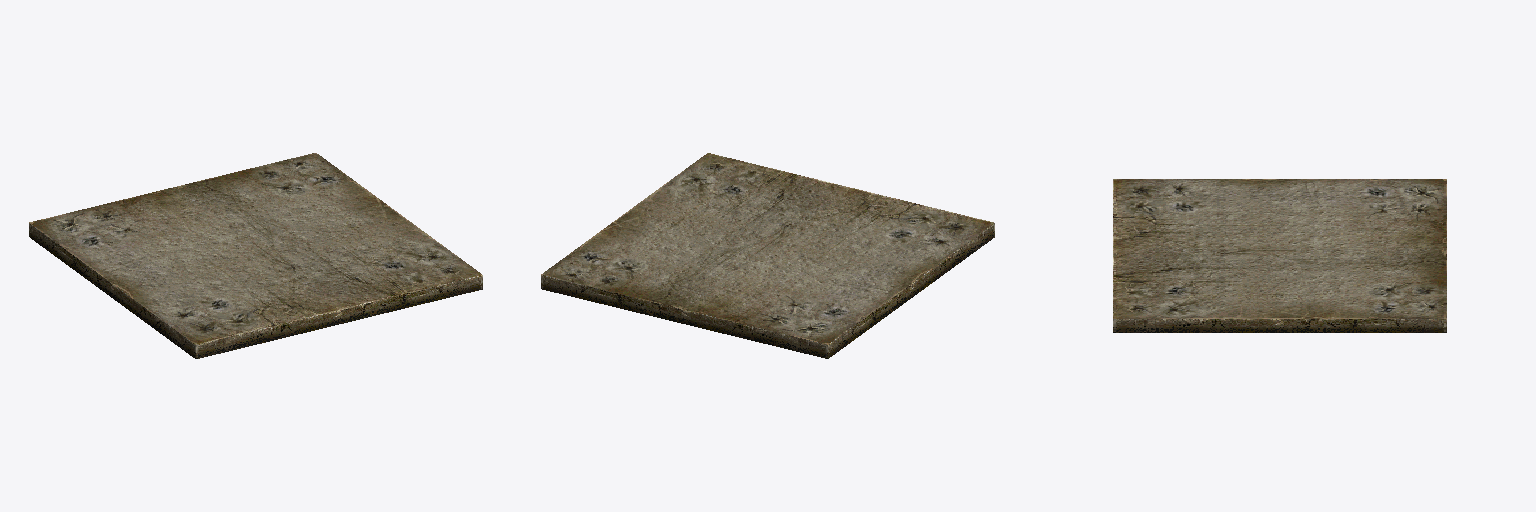
3 views of the same model, side by side, from view 1: azimuth 30°, elevation 25°; view 2: azimuth 150°, elevation 25°; view 3: azimuth 270°, elevation 25° (orthographic).
Visible parts, largest first — view 1: Swatertwrconcrete00-00.Swatertwrconcrete00-00_Swatertwrconcrete0; view 2: Swatertwrconcrete00-00.Swatertwrconcrete00-00_Swatertwrconcrete0; view 3: Swatertwrconcrete00-00.Swatertwrconcrete00-00_Swatertwrconcrete0.
Boxes of the visible parts, box(x1,y1,x2,y2) form: Swatertwrconcrete00-00.Swatertwrconcrete00-00_Swatertwrconcrete0: box(29, 153, 482, 358); Swatertwrconcrete00-00.Swatertwrconcrete00-00_Swatertwrconcrete0: box(541, 153, 994, 358); Swatertwrconcrete00-00.Swatertwrconcrete00-00_Swatertwrconcrete0: box(1113, 179, 1446, 332).
Bounding box in the file's own units: 1.98 × 0.0967 × 2.
Materials: 2 (2 with a texture image).